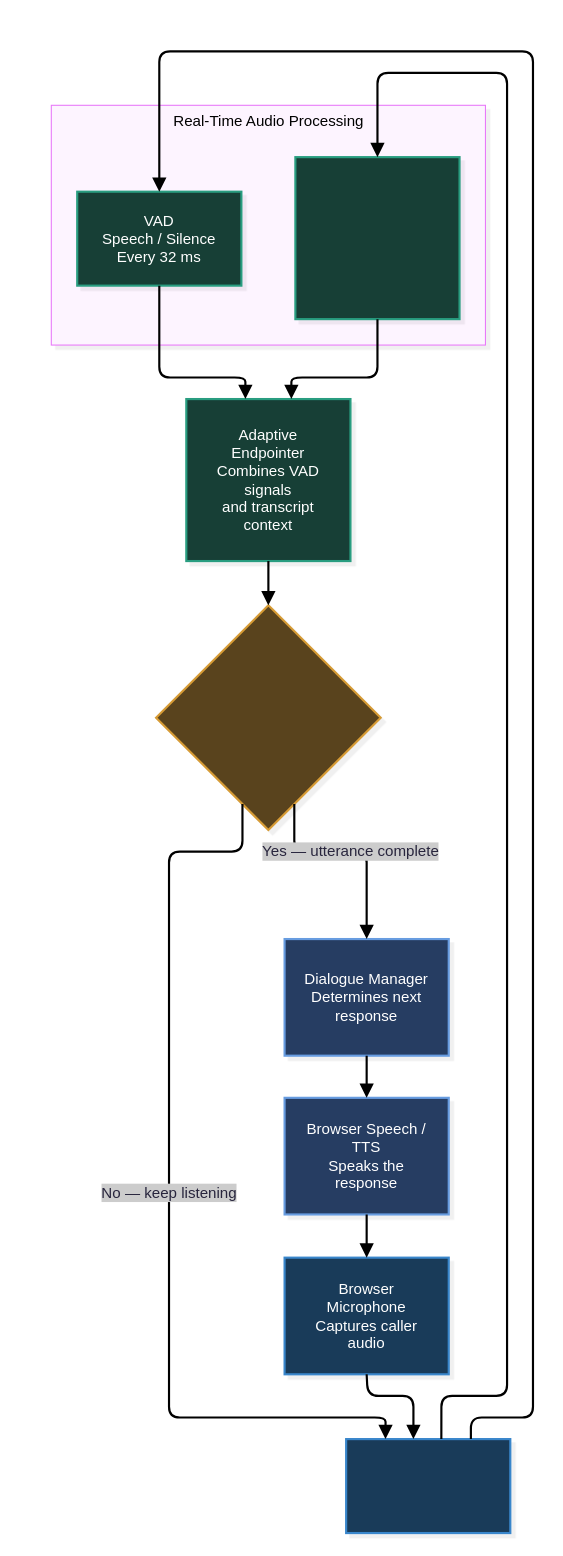
This 563x1556 diagram has some shape labels left out. The shapes that lost their labels are listed below. From the top down, each one's centre as x and y in pixels, then its label:
the point at 379,240: Vosk Streaming Speech Recognition Partial Transcript
the point at 270,719: Has the caller finished speaking?
the point at 430,1487: WebSocket Streams audio frames
